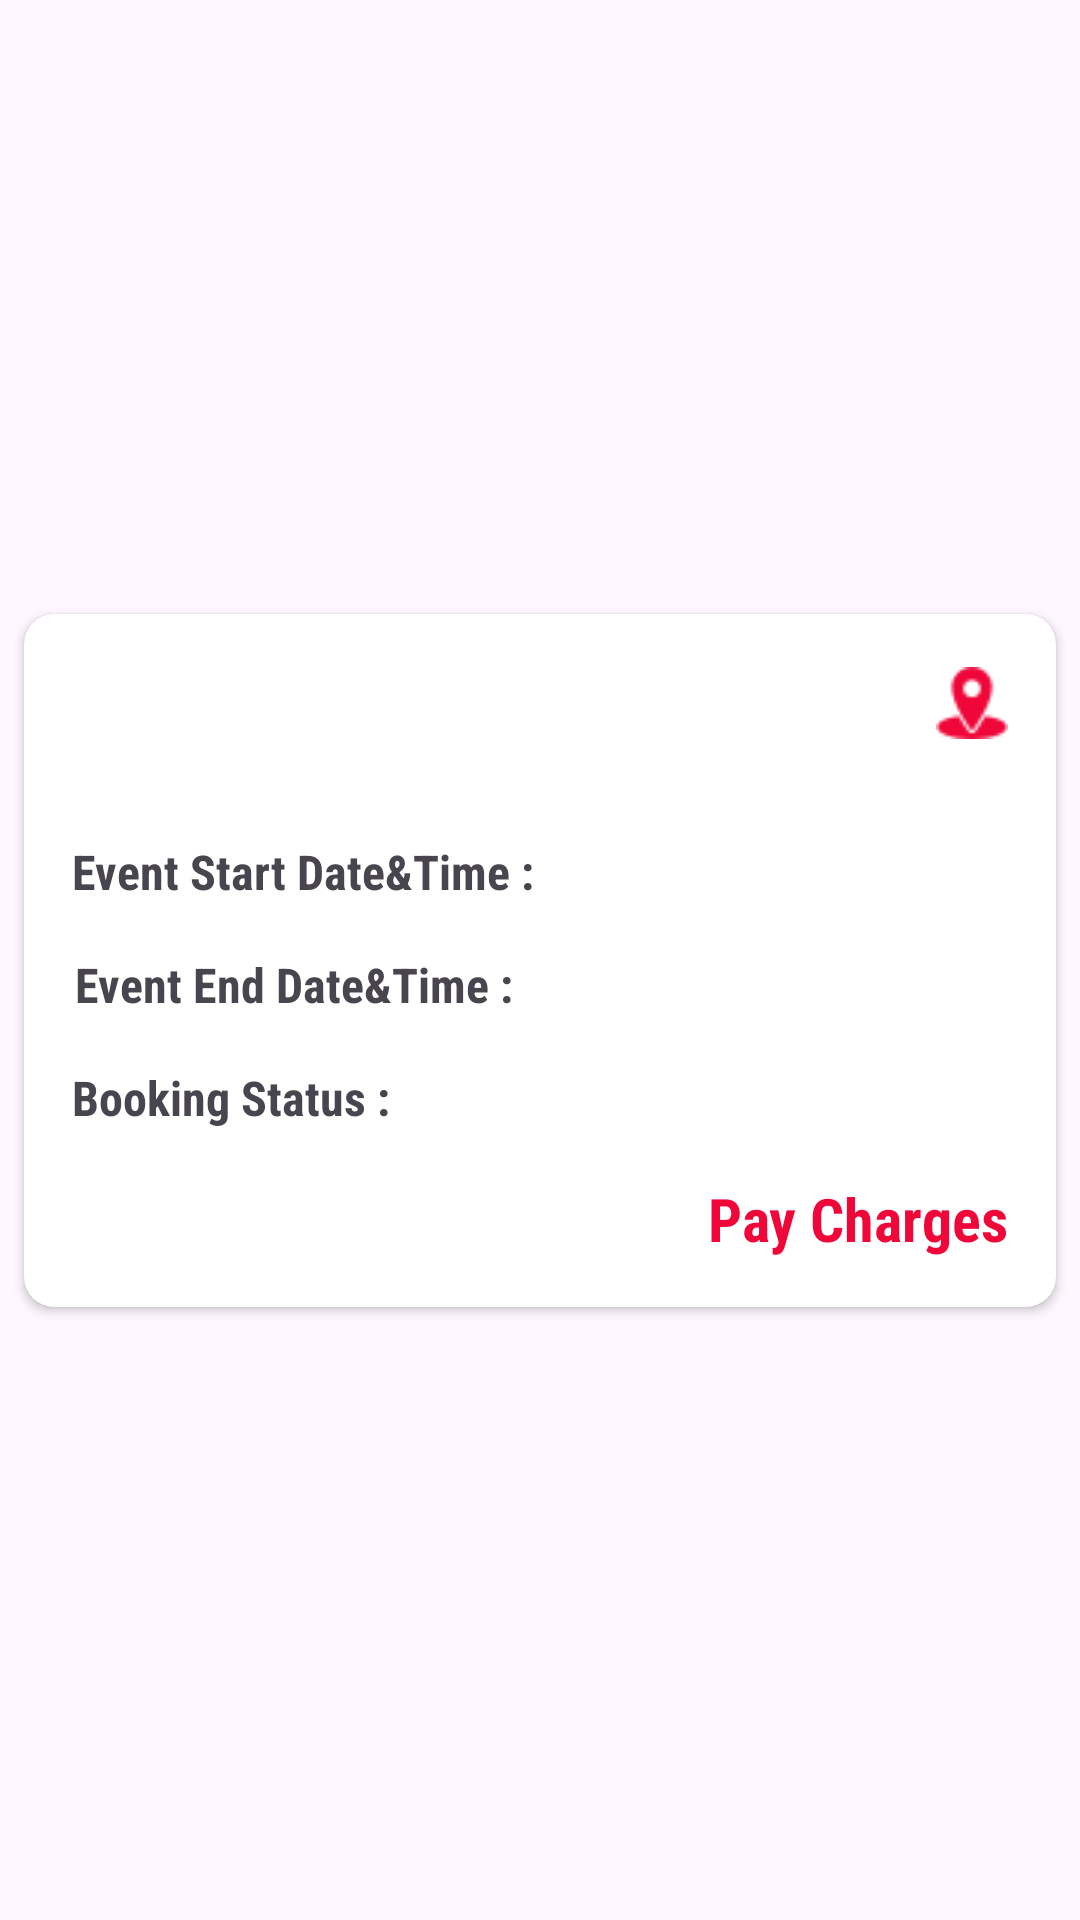

Point at icon controls on the screen. Image size 1080*1920, points as (x,y).
location: (972,703)
